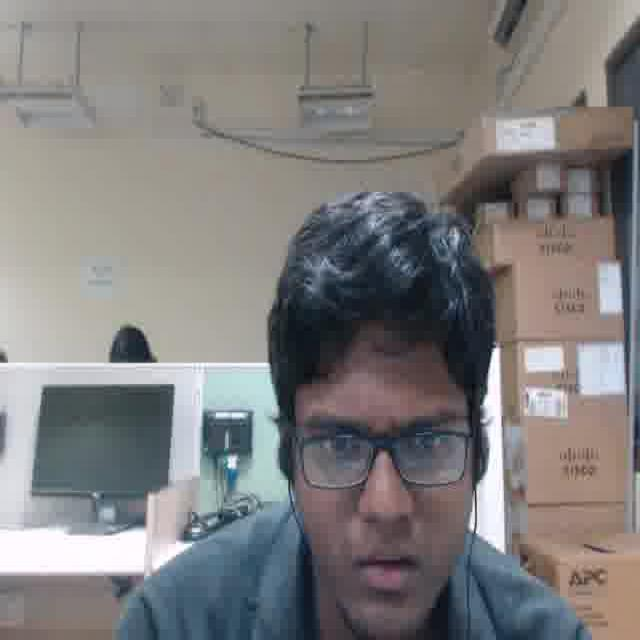Engaged: (295, 332, 471, 636)
